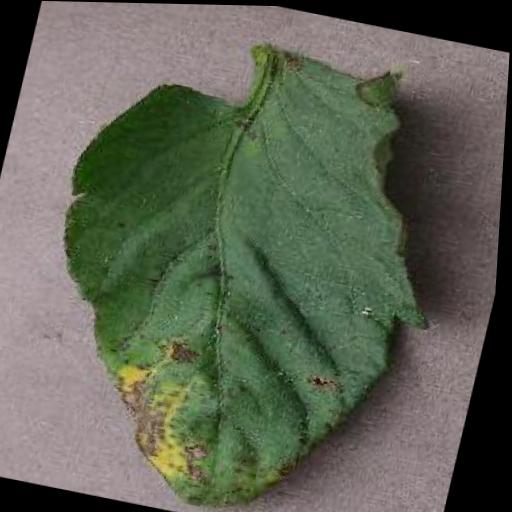Bacterial Spot: (0, 0, 497, 512)
